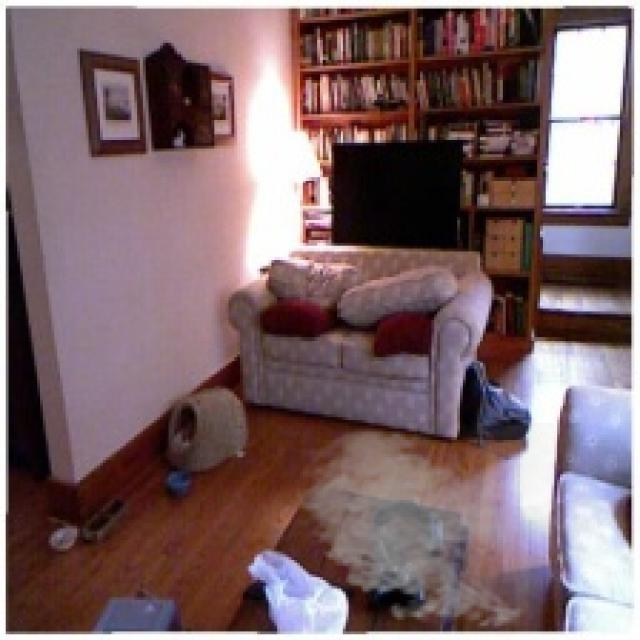smoke: (289, 423, 554, 634)
